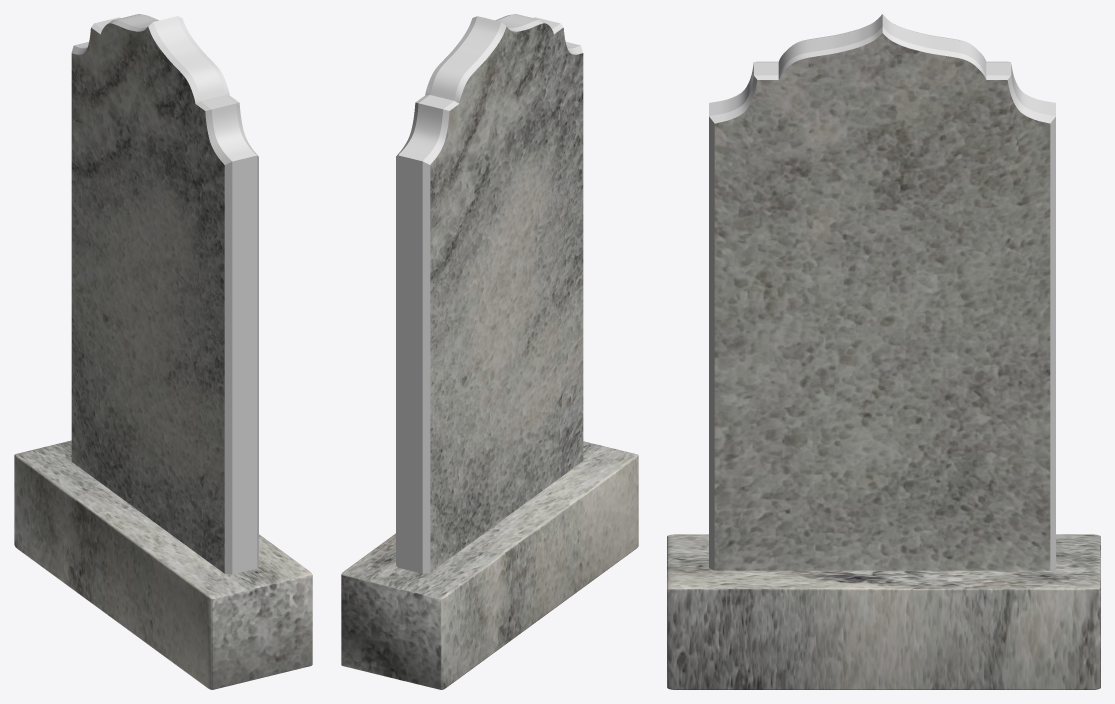
Rendered from Памятник Полевской [marble_u_u] (70).glb.
3 views of the same model, side by side, from view 1: azimuth 30°, elevation 25°; view 2: azimuth 150°, elevation 25°; view 3: azimuth 270°, elevation 25° (orthographic). The views are drawn at different scales.
Parts seen in each view (by area): view 1: Cube.051; view 2: Cube.051; view 3: Cube.051.
Boxes of the visible parts, <box> form: Cube.051: <box>14,14,312,689</box>; Cube.051: <box>341,14,638,689</box>; Cube.051: <box>667,14,1100,689</box>.
Bounding box in the file's own units: 0.15 × 0.8181 × 0.5.
2 materials, 1 textured.
